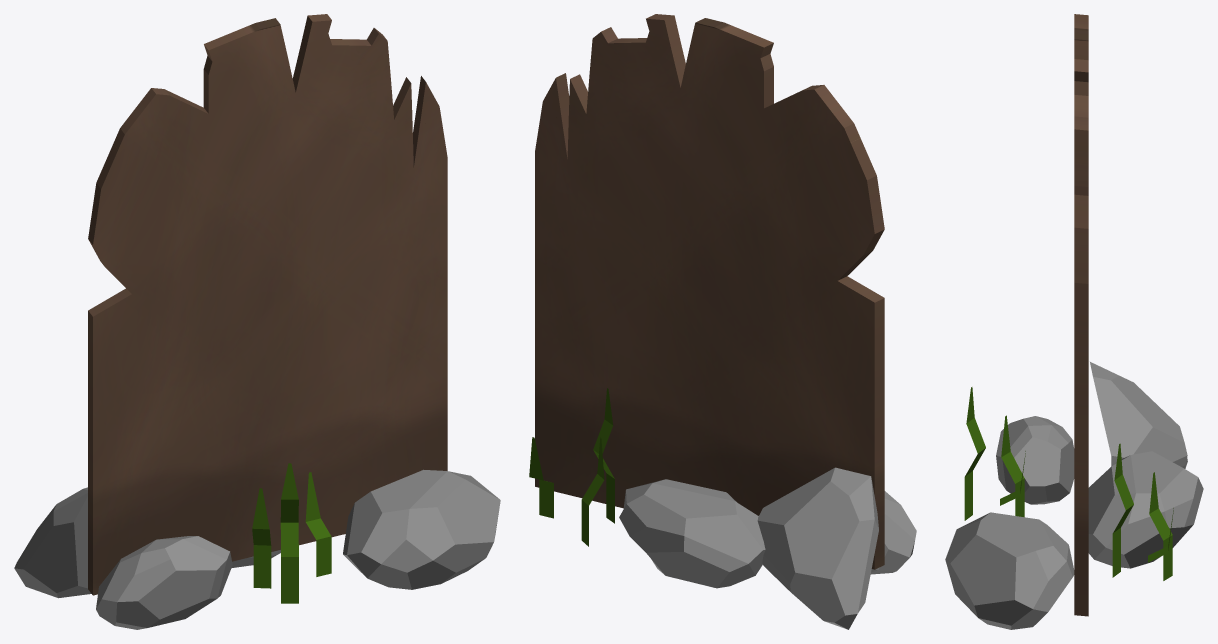
File: tomb_2.fbx
The picture shows the model from 3 angles, left to right: view 1: azimuth 30°, elevation 25°; view 2: azimuth 150°, elevation 25°; view 3: azimuth 270°, elevation 25°; orthographic projection. The views are drawn at different scales.
Parts seen in each view (by area): view 1: Icosphere.008, Icosphere.003, Icosphere.001, Icosphere.005, Icosphere.013, Icosphere.014, Icosphere.011; view 2: Icosphere.008, Icosphere.005, Icosphere.002, Icosphere.001, Icosphere.012, Icosphere.009, Icosphere.010; view 3: Icosphere.003, Icosphere.008, Icosphere.002, Icosphere.005, Icosphere.001, Icosphere.012, Icosphere.013, Icosphere.010, Icosphere.014.
Part boxes in pixels (x1,y1,x2,y2): Icosphere.008: [88, 14, 447, 595]; Icosphere.003: [343, 469, 500, 589]; Icosphere.001: [96, 536, 232, 629]; Icosphere.005: [14, 487, 91, 598]; Icosphere.013: [280, 463, 298, 603]; Icosphere.014: [252, 488, 271, 588]; Icosphere.011: [305, 472, 331, 576]; Icosphere.008: [535, 14, 884, 569]; Icosphere.005: [757, 467, 878, 629]; Icosphere.002: [619, 479, 765, 588]; Icosphere.001: [870, 491, 916, 574]; Icosphere.012: [593, 388, 614, 523]; Icosphere.009: [529, 437, 553, 518]; Icosphere.010: [581, 437, 604, 546]; Icosphere.003: [945, 512, 1074, 629]; Icosphere.008: [1074, 14, 1088, 616]; Icosphere.002: [1088, 451, 1203, 568]; Icosphere.005: [1090, 362, 1187, 468]; Icosphere.001: [996, 416, 1074, 504]; Icosphere.012: [1112, 443, 1133, 577]; Icosphere.013: [964, 387, 985, 520]; Icosphere.010: [1149, 472, 1172, 580]; Icosphere.014: [1001, 415, 1024, 517].
Size of the model in its own units: 0.9612 by 1.26 by 0.5586.
Materials: 2 (2 with a texture image).
